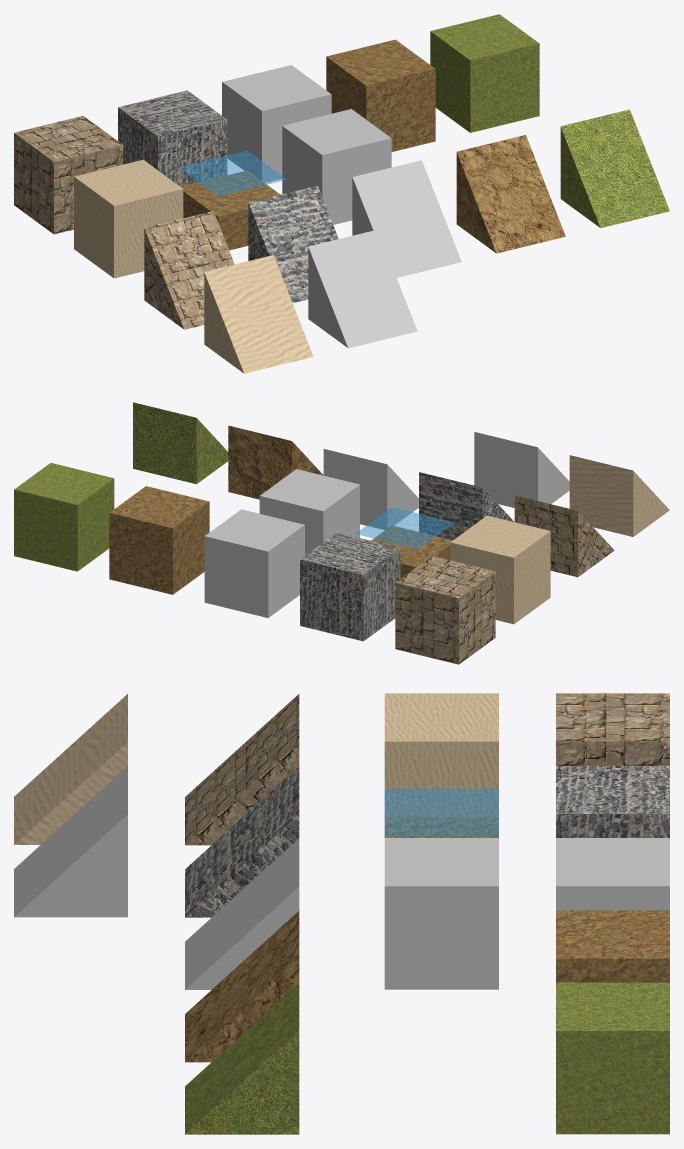
File: asset_tile0.dae
3 views of the same model, one above another, from view 1: azimuth 30°, elevation 25°; view 2: azimuth 150°, elevation 25°; view 3: azimuth 270°, elevation 25° (orthographic). The views are drawn at different scales.
Parts seen in each view (by area): view 1: grass, triangle_grass, triangle_dirt, triangle_wood, triangle_sand, sand, dirt, triangle_concrete, brick, wood, brick_stone_wall, concrete (+3 smaller); view 2: brick, concrete, dirt, brick_stone_wall, grass, sand, triangle_grass, triangle_sand, wood, triangle_wood, triangle_dirt, triangle_brick (+3 smaller); view 3: wood, grass, sand, triangle_grass, triangle_wood, brick, brick_stone_wall, concrete, dirt, triangle_dirt, triangle_brick, triangle_brick_stone_wall (+3 smaller).
Boxes of the visible parts, box(x1,y1,x2,y2) form: grass: box(430, 14, 539, 132); triangle_grass: box(560, 109, 669, 227); triangle_dirt: box(456, 135, 565, 253); triangle_wood: box(308, 229, 417, 348); triangle_sand: box(204, 255, 313, 373); sand: box(74, 159, 183, 278); dirt: box(326, 39, 435, 151); triangle_concrete: box(352, 160, 461, 277); brick: box(14, 115, 123, 234); wood: box(282, 109, 391, 224); brick_stone_wall: box(118, 90, 227, 186); concrete: box(222, 65, 331, 182); brick: box(395, 556, 495, 664); concrete: box(204, 509, 304, 617); dirt: box(109, 486, 209, 594); brick_stone_wall: box(300, 532, 400, 641); grass: box(14, 463, 114, 571); sand: box(450, 515, 550, 624); triangle_grass: box(133, 402, 228, 484); triangle_sand: box(569, 455, 669, 536); wood: box(259, 469, 359, 555); triangle_wood: box(474, 432, 569, 507); triangle_dirt: box(228, 425, 323, 499); triangle_brick: box(514, 495, 614, 577); wood: box(384, 838, 498, 989); grass: box(556, 982, 669, 1134); sand: box(384, 693, 498, 817); triangle_grass: box(185, 983, 299, 1134); triangle_wood: box(14, 766, 127, 917); brick: box(556, 693, 669, 765); brick_stone_wall: box(556, 765, 669, 837); concrete: box(556, 838, 669, 910); dirt: box(556, 910, 669, 982); triangle_dirt: box(185, 911, 299, 1062); triangle_brick: box(185, 694, 299, 845); triangle_brick_stone_wall: box(185, 766, 299, 917).
Bounding box in the file's own units: 14.01 × 11.5 × 2.
